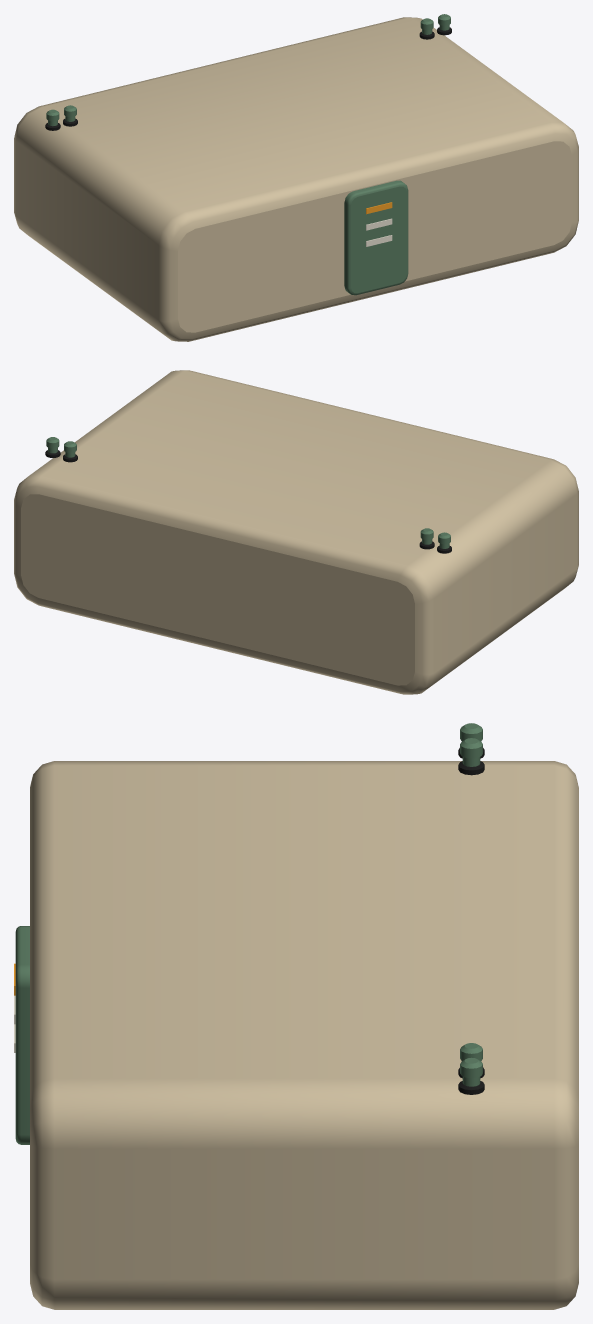
Rendered from t60_cabinet.obj.
3 renders of one model, top to bottom at view 1: azimuth 30°, elevation 25°; view 2: azimuth 150°, elevation 25°; view 3: azimuth 270°, elevation 25°, orthographic. The views are drawn at different scales.
Visible parts, largest first — view 1: t60_cabinet; view 2: t60_cabinet; view 3: t60_cabinet.
Boxes of the visible parts, bbox=[...] form: t60_cabinet: bbox=[14, 14, 578, 341]; t60_cabinet: bbox=[14, 370, 578, 694]; t60_cabinet: bbox=[14, 723, 578, 1309].
Size of the model in its own units: 4.81 by 1.6 by 3.21.
